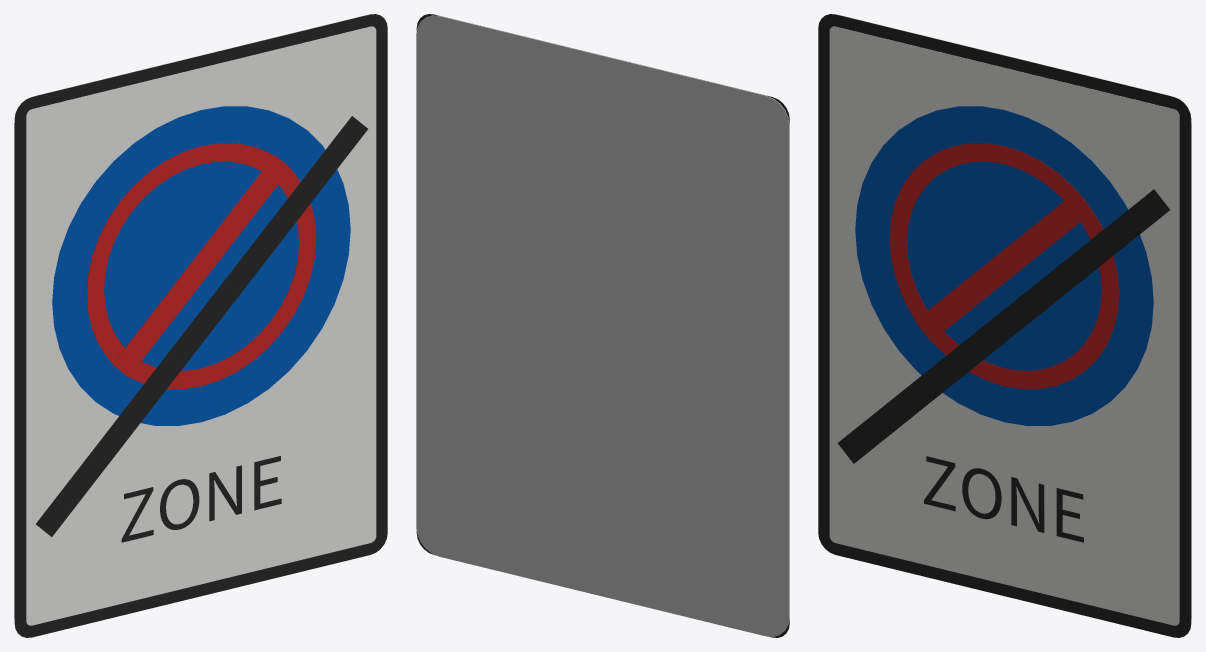
The picture shows the model from 3 angles, left to right: view 1: azimuth 30°, elevation 25°; view 2: azimuth 150°, elevation 25°; view 3: azimuth 330°, elevation 25°; orthographic projection.
Parts seen in each view (by area): view 1: B50_r01, B50_d02, B50_r00, B50_p06, B50_o03, B50_p04, B50_txt05, B50_dos; view 2: B50_dos; view 3: B50_r01, B50_d02, B50_r00, B50_p06, B50_o03, B50_p04, B50_txt05, B50_dos.
Boxes of the visible parts, x1=… form: B50_r01: x1=26, y1=26, x2=376, y2=625; B50_d02: x1=52, y1=106, x2=350, y2=425; B50_r00: x1=14, y1=14, x2=387, y2=637; B50_p06: x1=36, y1=116, x2=367, y2=536; B50_o03: x1=86, y1=143, x2=316, y2=389; B50_p04: x1=112, y1=155, x2=290, y2=377; B50_txt05: x1=121, y1=456, x2=281, y2=542; B50_dos: x1=14, y1=15, x2=365, y2=618; B50_dos: x1=416, y1=15, x2=789, y2=636; B50_r01: x1=829, y1=26, x2=1179, y2=625; B50_d02: x1=855, y1=106, x2=1153, y2=425; B50_r00: x1=818, y1=14, x2=1191, y2=637; B50_p06: x1=838, y1=189, x2=1169, y2=463; B50_o03: x1=889, y1=143, x2=1119, y2=389; B50_p04: x1=915, y1=191, x2=1093, y2=341; B50_txt05: x1=924, y1=456, x2=1083, y2=542; B50_dos: x1=840, y1=15, x2=1191, y2=618.
Bounding box in the file's own units: 0.65 × 0.9 × 0.0041.
